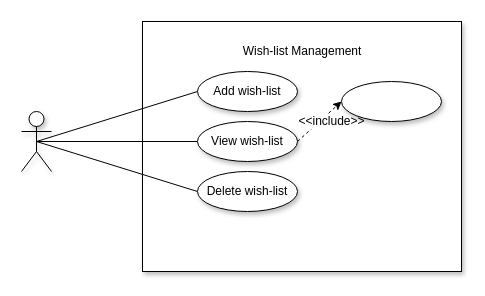
This 485x296 diagram has some shape labels left out. Each missing label, with the centre of its shape:
"Admin" goes at point (37, 142).
"Book" goes at point (392, 102).
